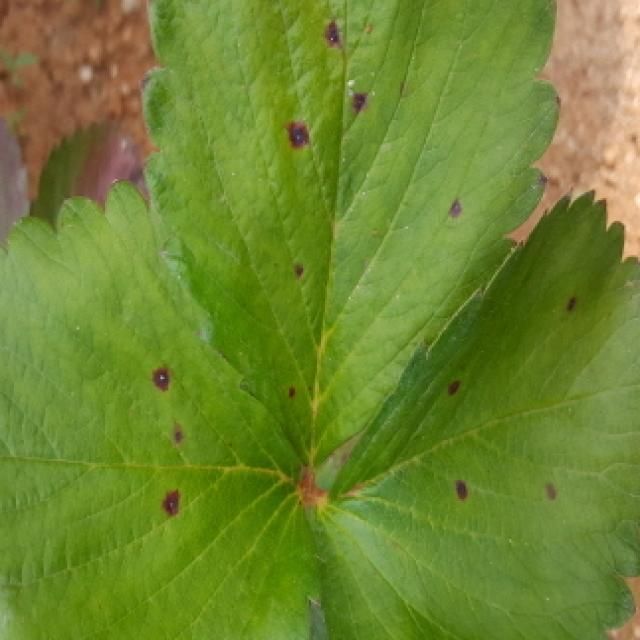Leaf Spot: (140, 0, 563, 482), (308, 188, 640, 640), (0, 179, 316, 640)
